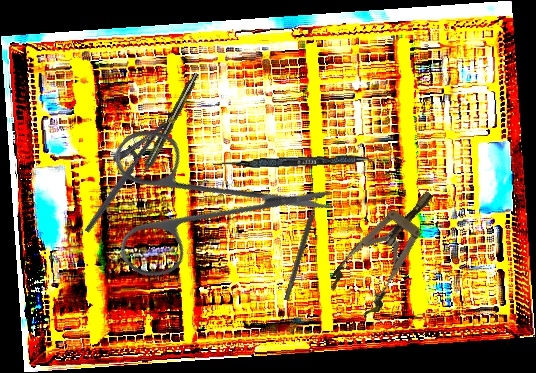Fixation Ring: (277, 189, 326, 303)
Handpiece: (134, 70, 202, 184)
Iris Scissors: (63, 63, 340, 340)
Needle Holder: (68, 108, 170, 234)
Spatula Surgical: (212, 151, 403, 172)
Speculum: (323, 175, 455, 323)
